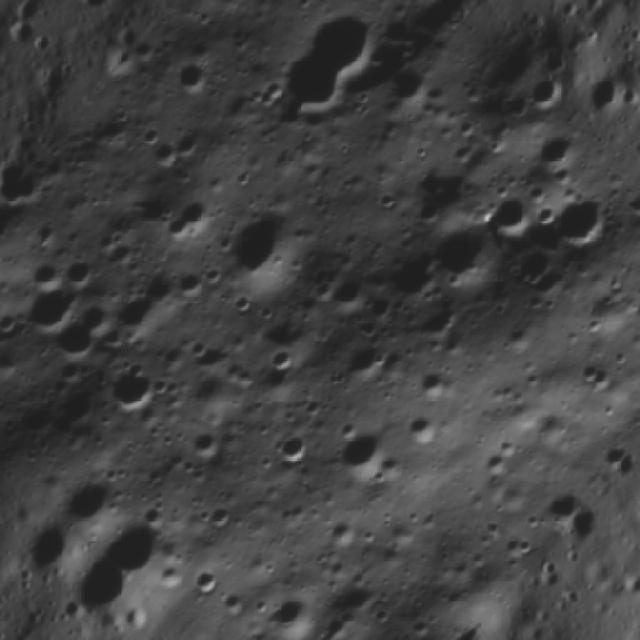crater: (257, 0, 412, 142), (199, 188, 321, 310), (412, 203, 512, 302), (313, 408, 404, 499), (80, 346, 172, 436), (365, 235, 453, 323), (544, 180, 627, 263), (250, 578, 327, 640), (392, 393, 458, 459), (159, 44, 223, 110), (481, 184, 544, 248), (407, 351, 467, 411), (527, 121, 585, 179), (164, 255, 222, 313), (266, 418, 323, 476), (175, 417, 232, 474), (51, 245, 103, 298), (257, 338, 308, 388), (198, 493, 245, 541), (184, 558, 231, 605), (617, 280, 640, 342)
